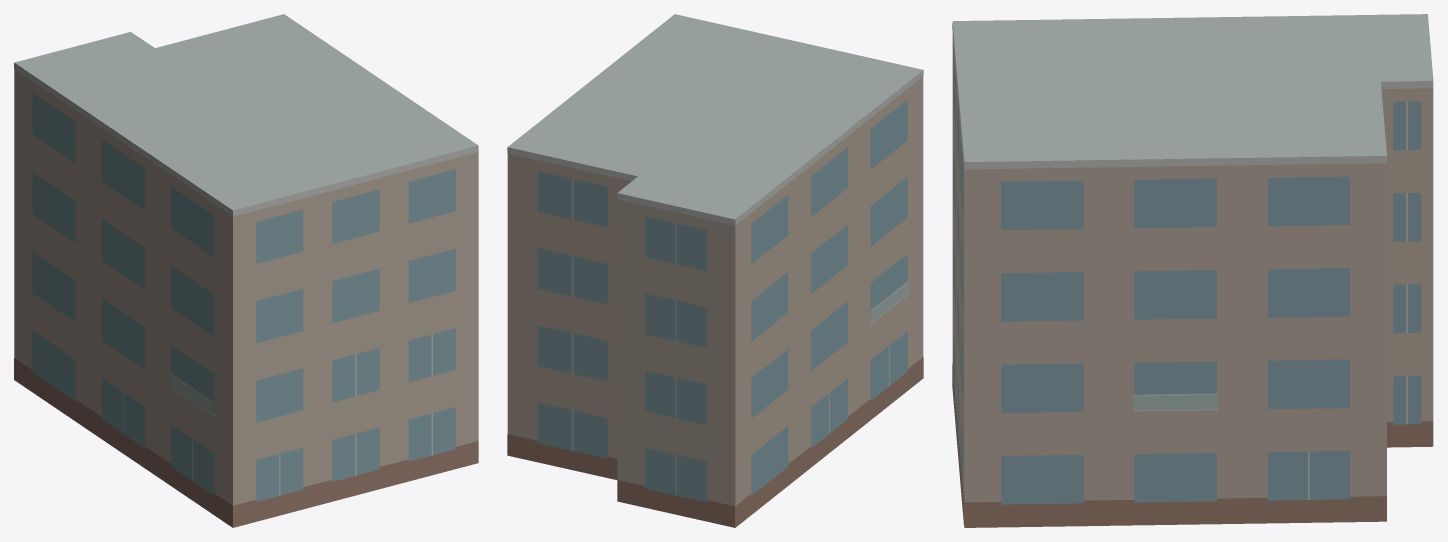
File: residential-1afc0a21-e374-4ec1-b327-3dafa680f80e.glb
3 renders of one model, left to right at view 1: azimuth 30°, elevation 25°; view 2: azimuth 150°, elevation 25°; view 3: azimuth 270°, elevation 25°, orthographic. The views are drawn at different scales.
Visible parts, largest first — view 1: residential-1afc0a21-e374-4ec1-b327-3dafa680f80e.tmp; view 2: residential-1afc0a21-e374-4ec1-b327-3dafa680f80e.tmp; view 3: residential-1afc0a21-e374-4ec1-b327-3dafa680f80e.tmp.
Part boxes in pixels (<box>): residential-1afc0a21-e374-4ec1-b327-3dafa680f80e.tmp: <box>14,14,478,527</box>; residential-1afc0a21-e374-4ec1-b327-3dafa680f80e.tmp: <box>507,14,923,527</box>; residential-1afc0a21-e374-4ec1-b327-3dafa680f80e.tmp: <box>952,14,1433,527</box>.
Bounding box in the file's own units: 10.6 × 12.2 × 14.55.
